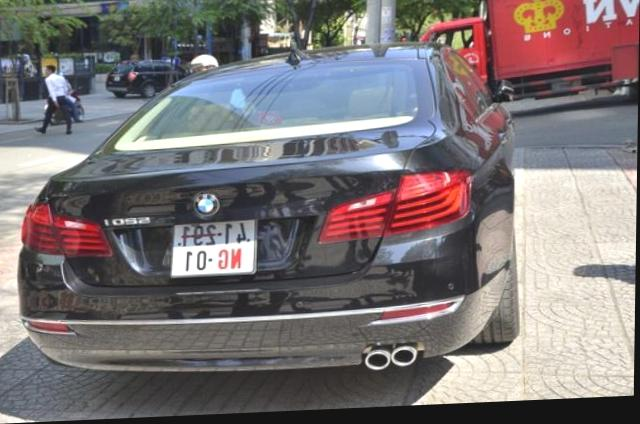License_Plate: (171, 215, 260, 281)
